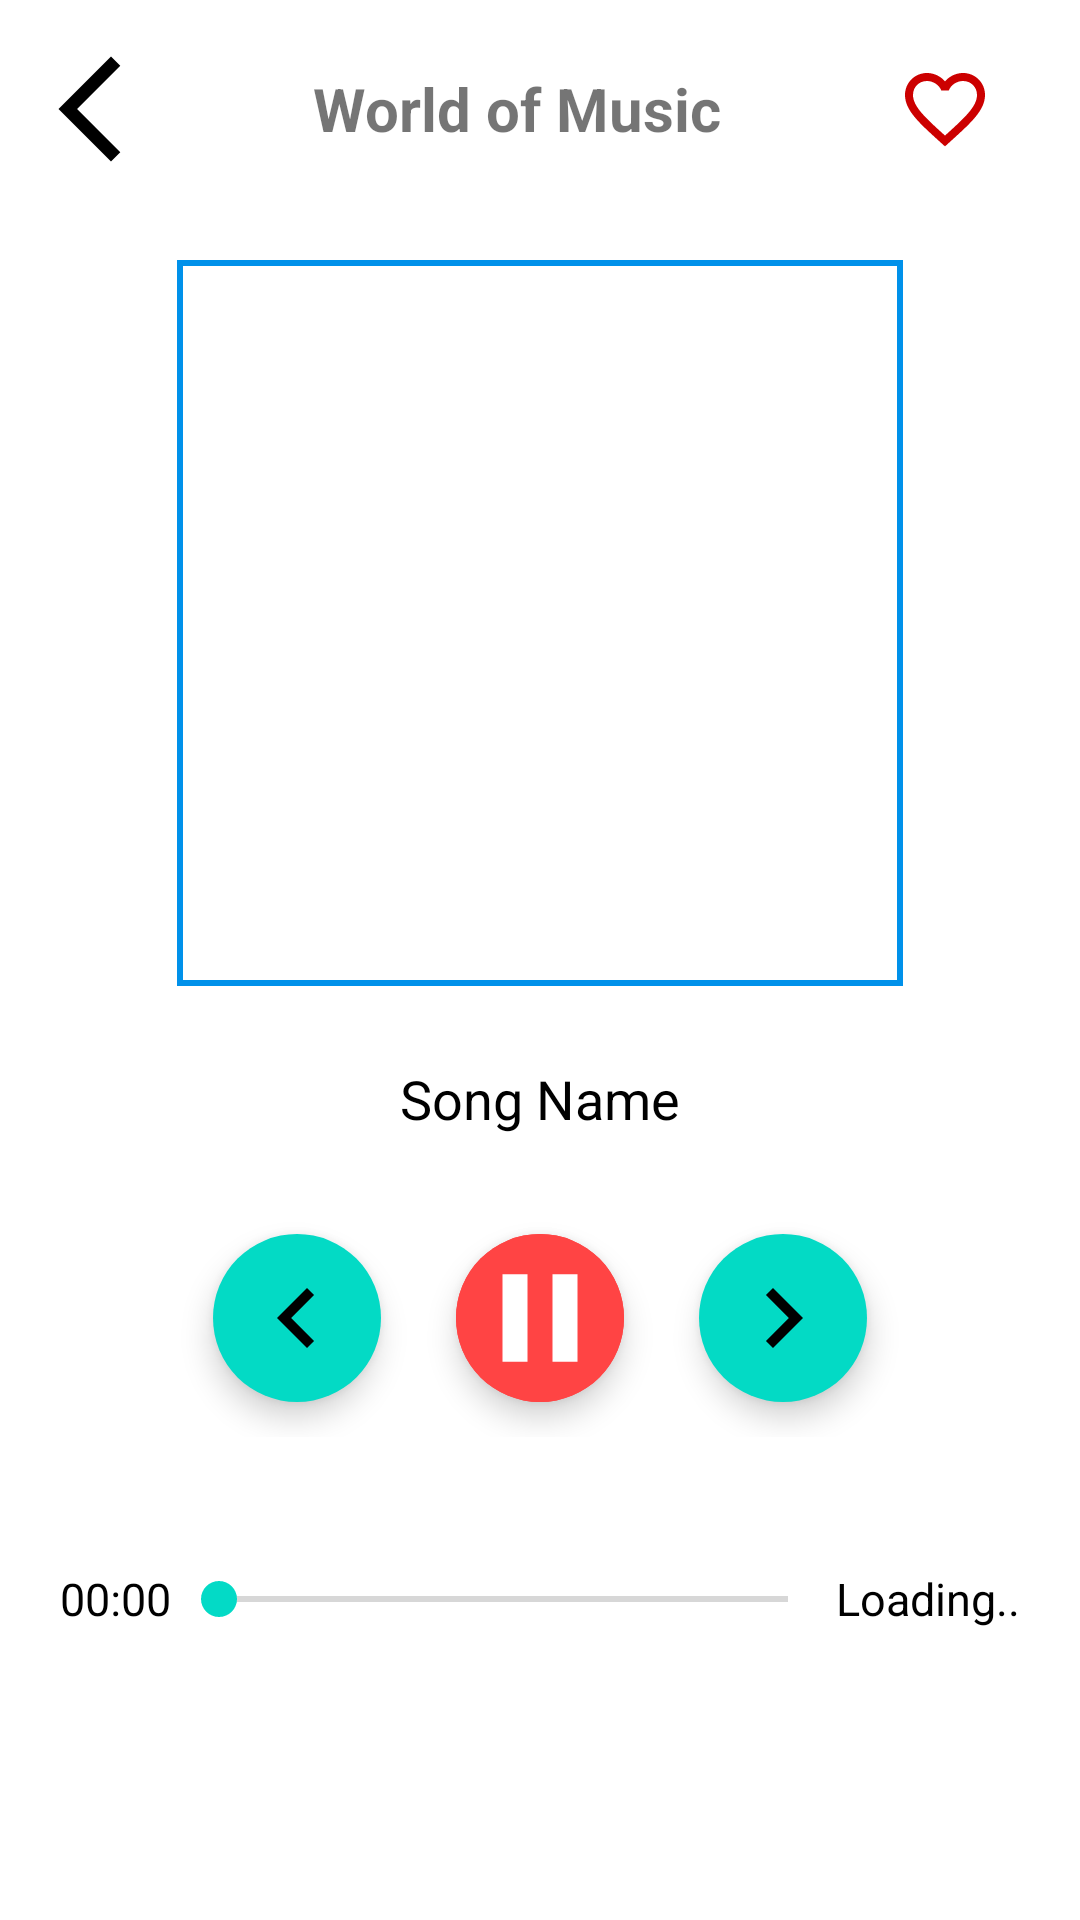

Where icons sit on this 1080px×1920px app screen, as (x1, y1, x2, y2):
Back: (58, 56, 120, 162)
Favourites: (905, 73, 985, 146)
next: (699, 1234, 867, 1402)
pause: (456, 1234, 624, 1402)
previous: (213, 1234, 381, 1402)
